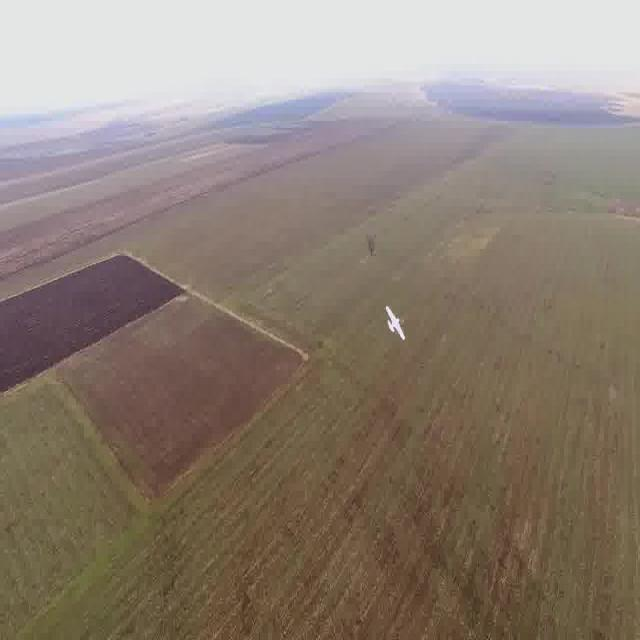iha: (381, 295, 412, 350)
